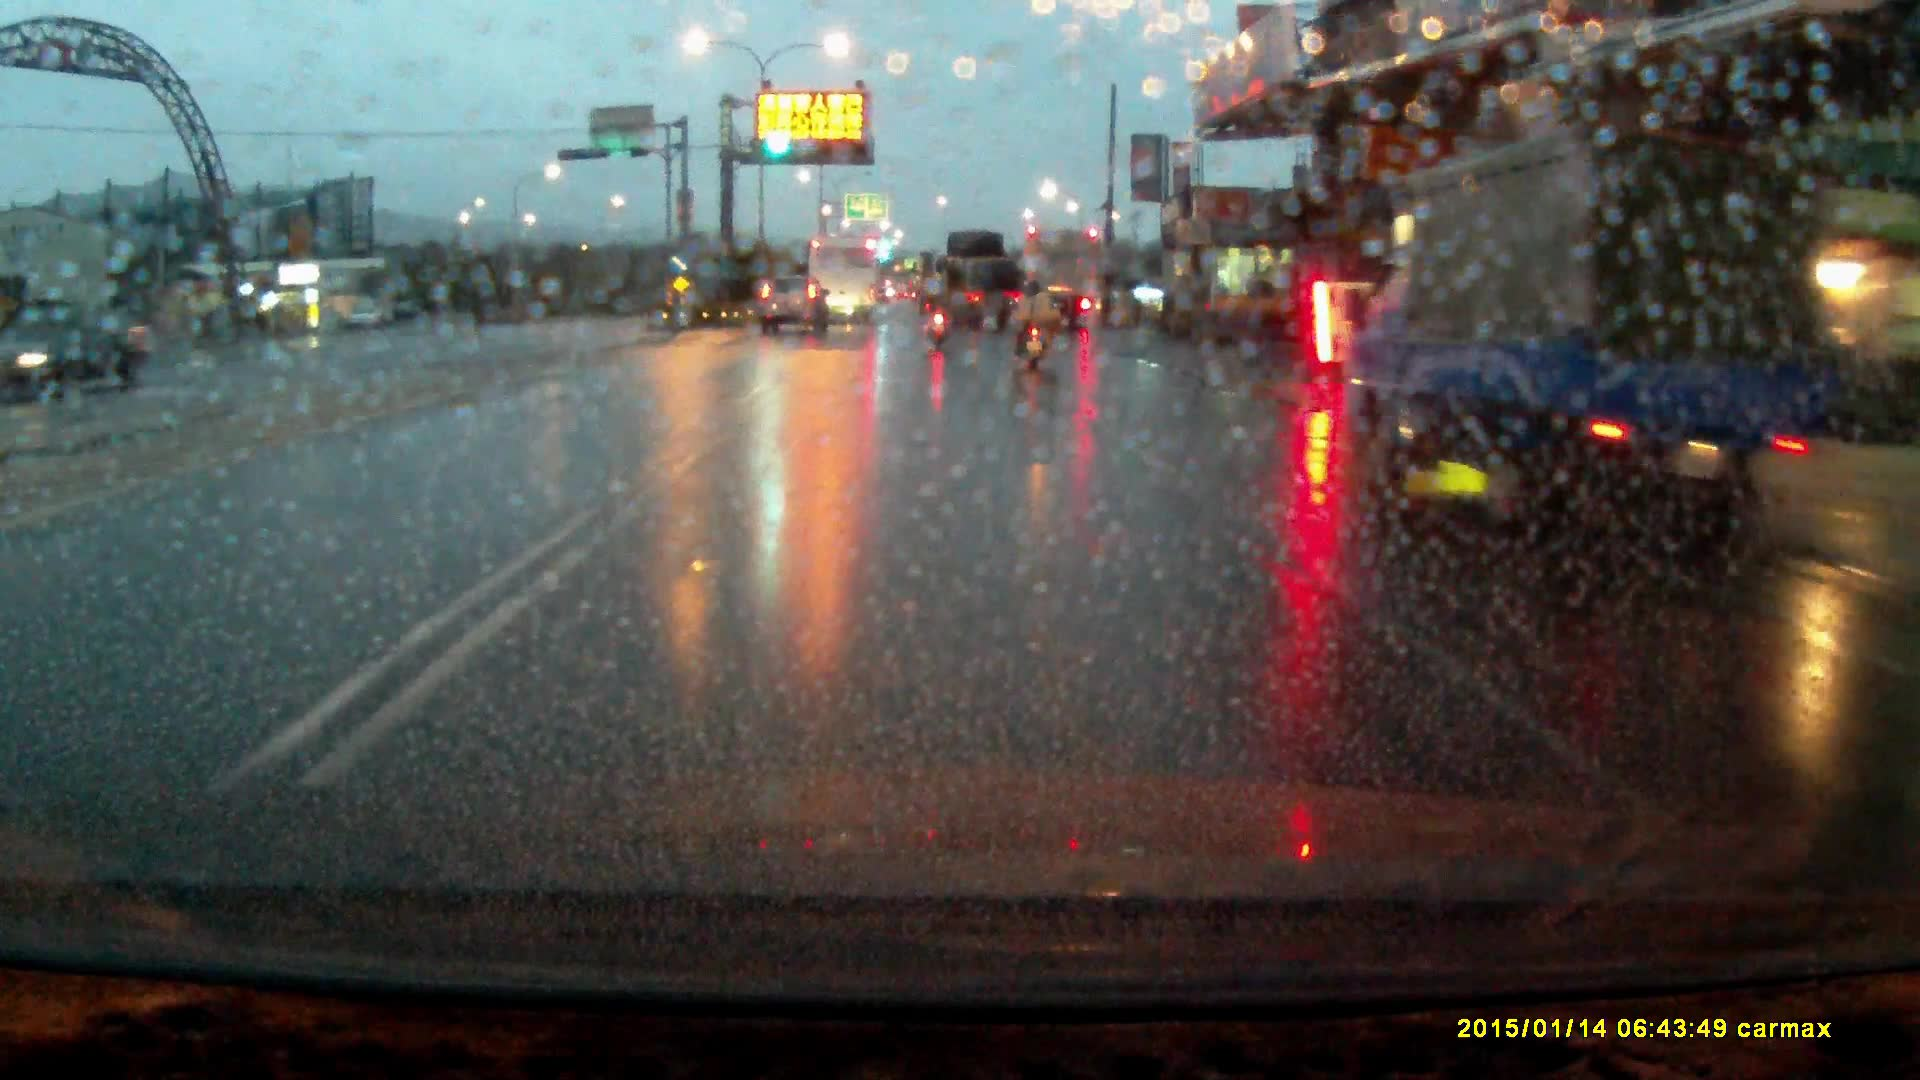rider: (1012, 271, 1050, 369), (927, 278, 951, 347)
vehicle: (1339, 123, 1804, 539), (5, 324, 136, 404), (936, 237, 1024, 342), (1024, 232, 1104, 330), (807, 242, 881, 330), (760, 280, 827, 340)
